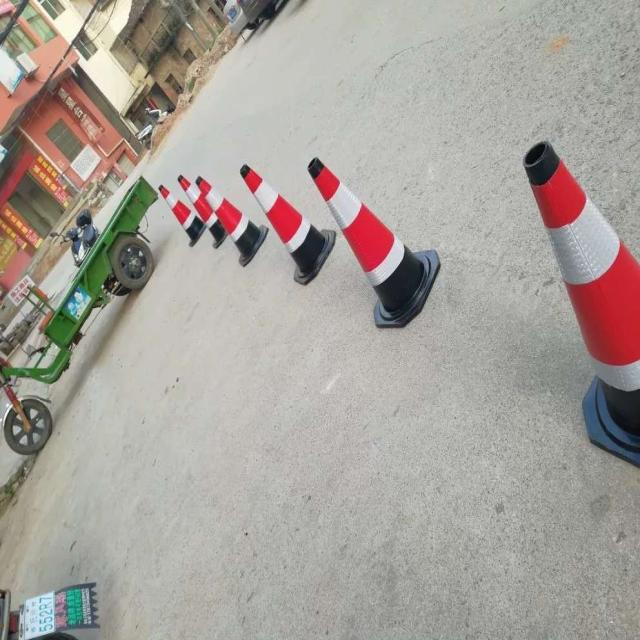motorbike: (49, 208, 101, 268)
reflective_cone: (524, 141, 640, 474), (308, 159, 440, 328), (240, 164, 334, 283), (194, 176, 269, 264), (177, 174, 226, 248), (158, 185, 205, 246)
tricycle: (1, 172, 158, 454)
